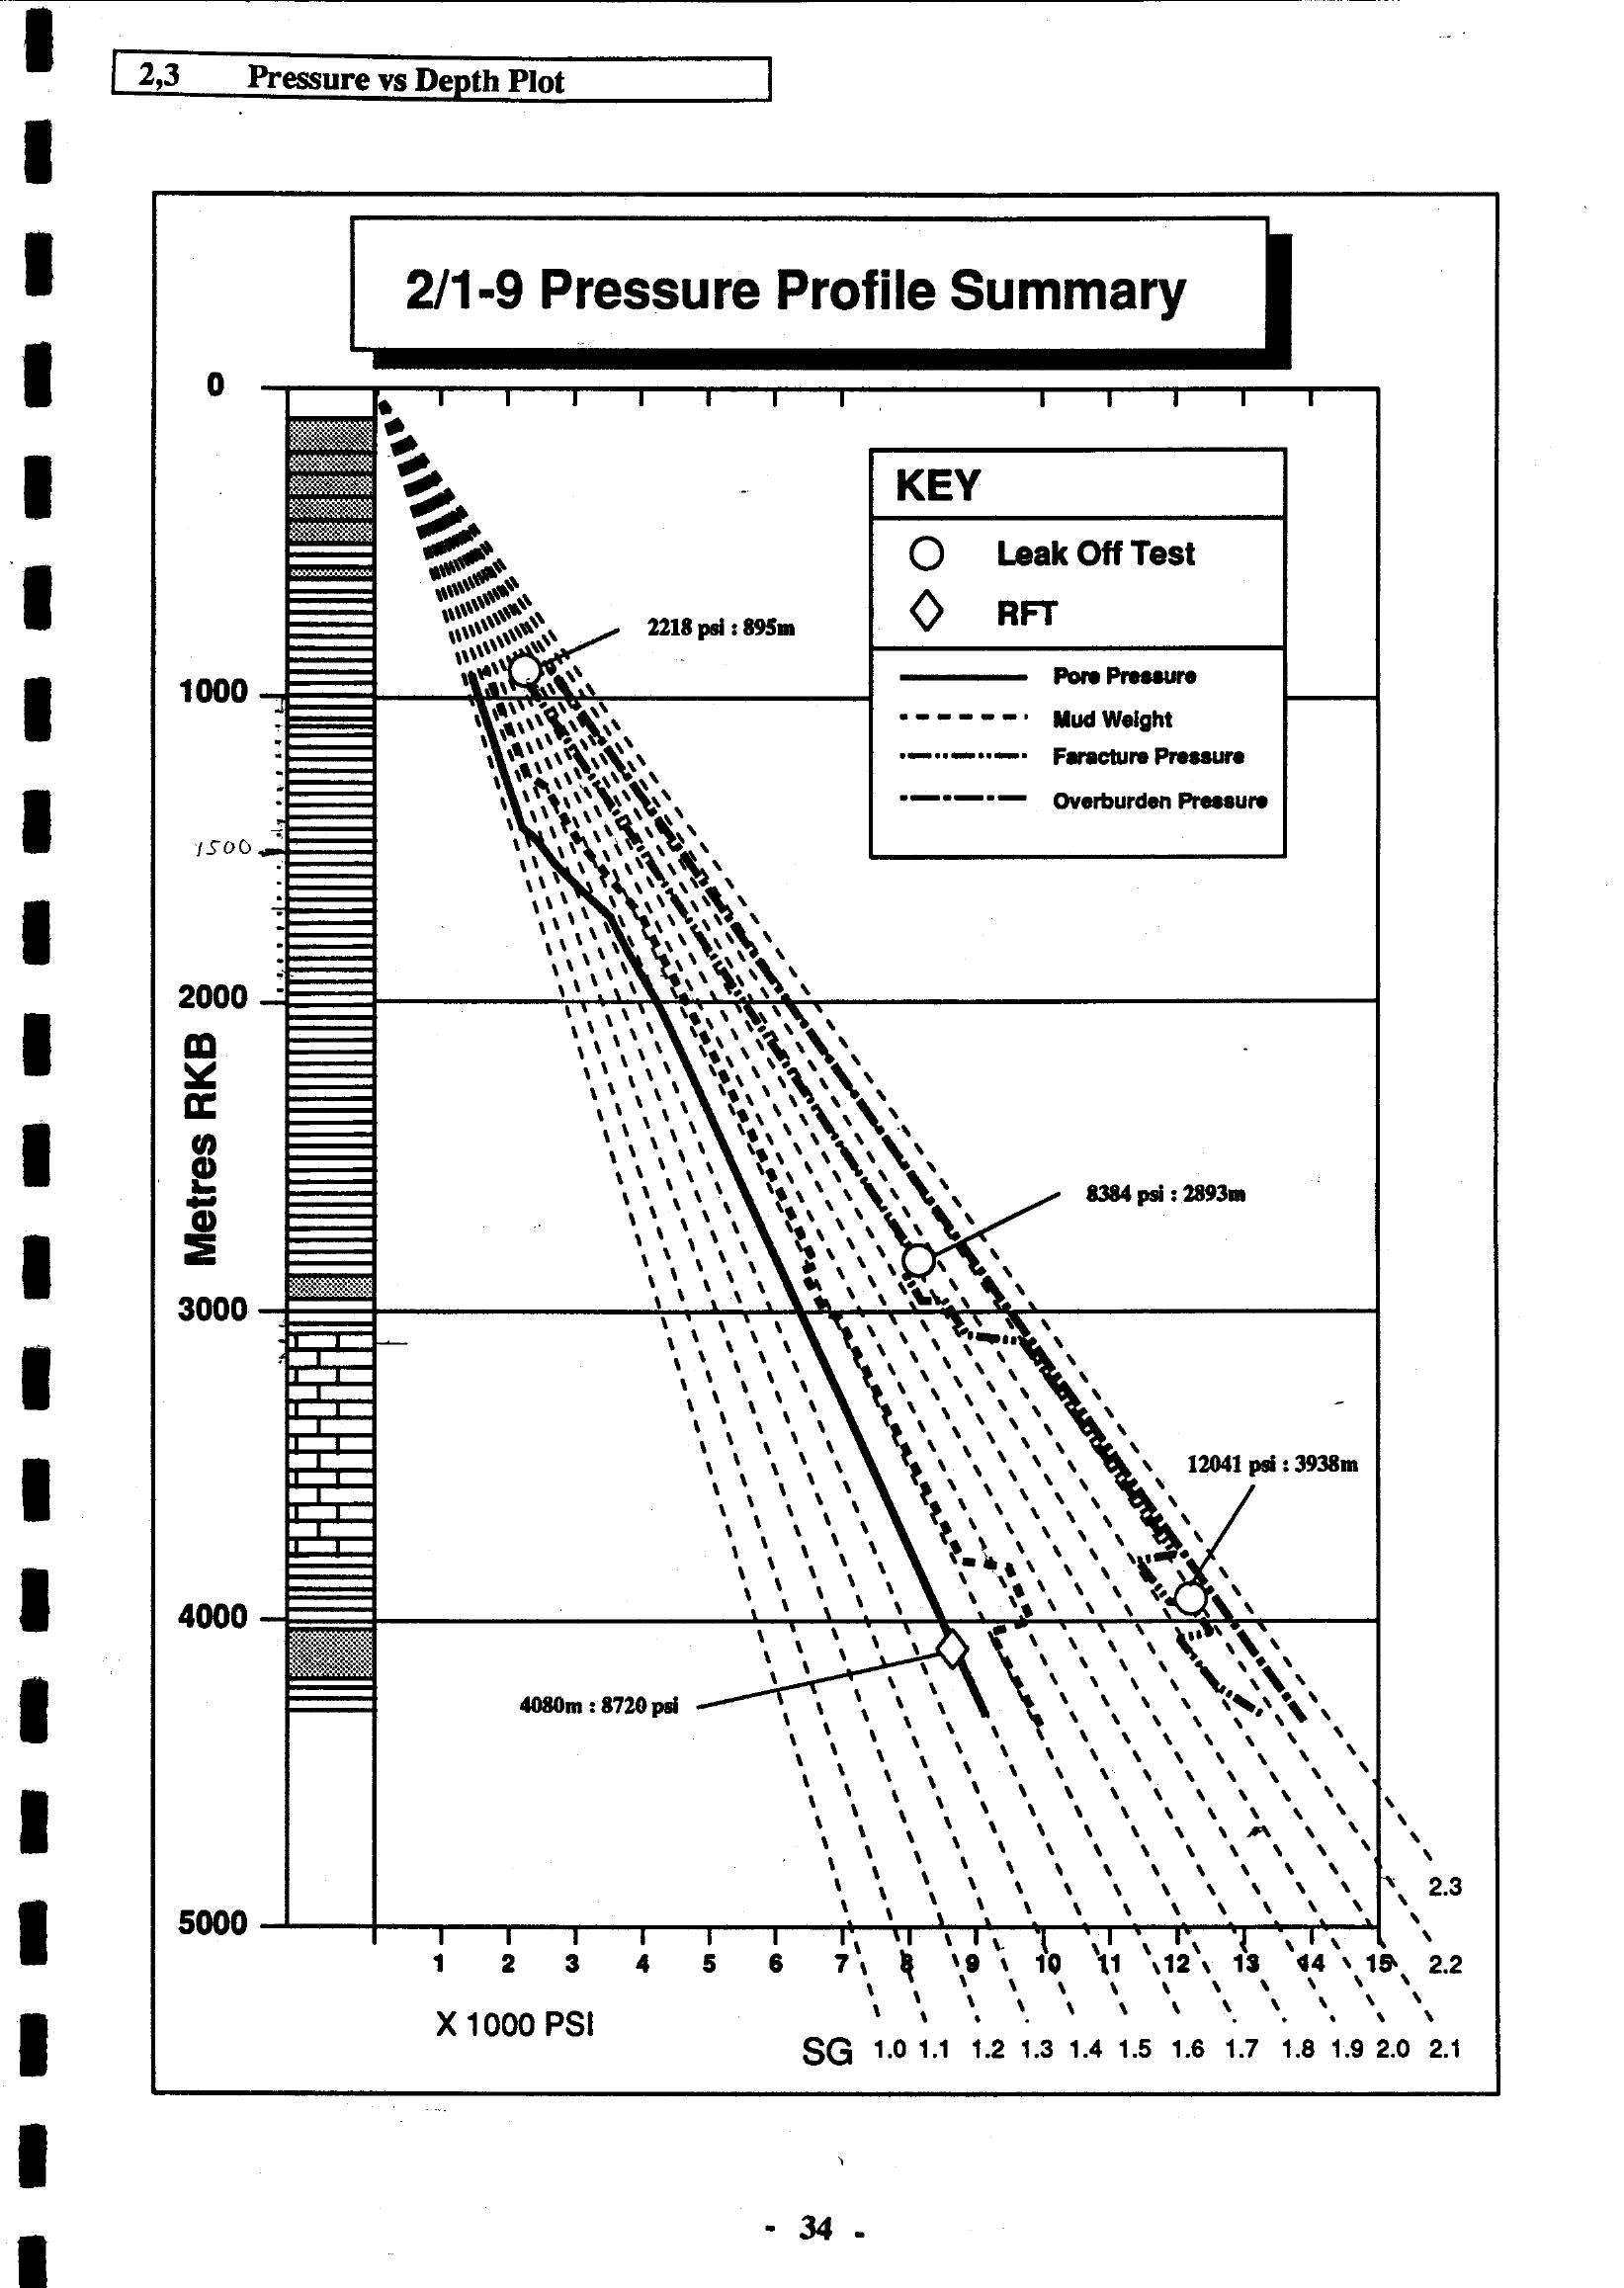graph: (84, 42, 1533, 2123)
